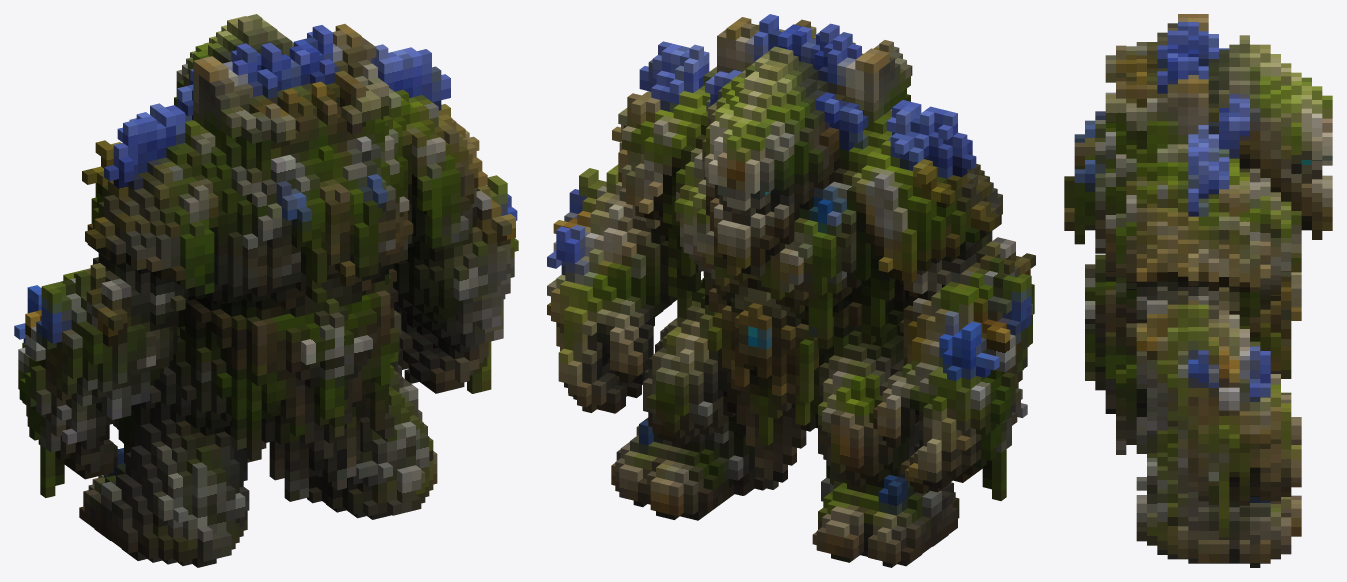
Rendered from u_noye_ancien.glb.
3 views of the same model, side by side, from view 1: azimuth 30°, elevation 25°; view 2: azimuth 150°, elevation 25°; view 3: azimuth 270°, elevation 25° (orthographic). The views are drawn at different scales.
Visible parts, largest first — view 1: noye_ancien_body; view 2: noye_ancien_body; view 3: noye_ancien_body.
Part boxes in pixels (<box>): noye_ancien_body: <box>14,14,518,567</box>; noye_ancien_body: <box>547,14,1035,567</box>; noye_ancien_body: <box>1064,14,1332,567</box>.
Bounding box in the file's own units: 1.38 × 1.38 × 0.7312.
1 material, 1 textured.
